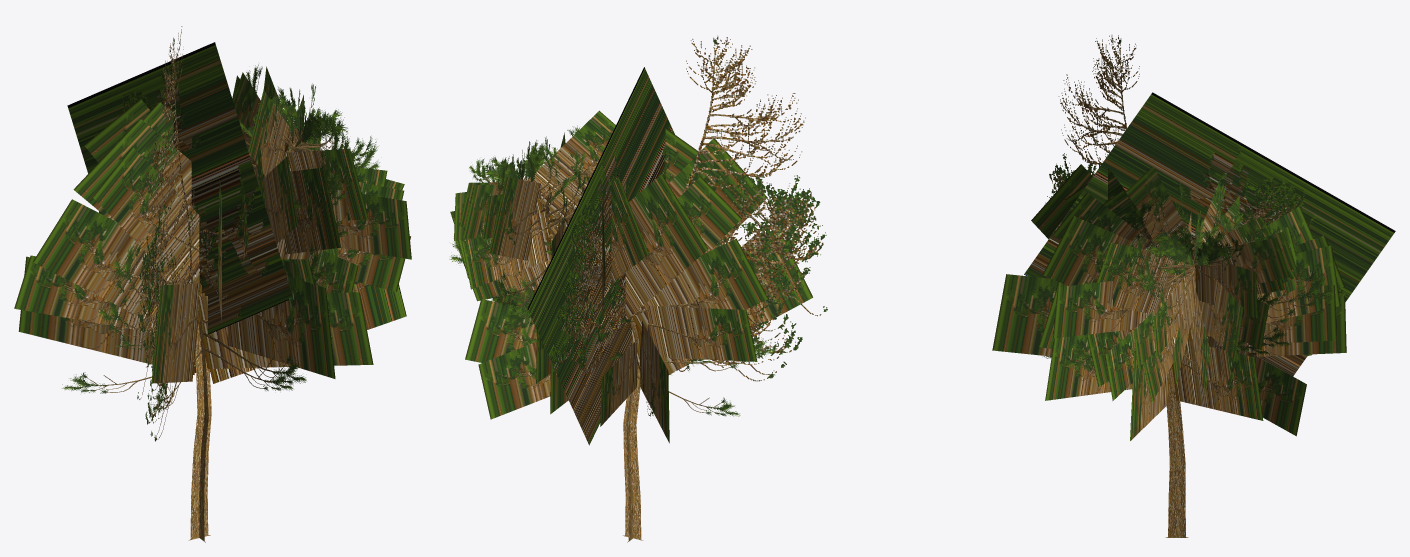
File: Pine_aleppo_79_1_45.obj
The picture shows the model from 3 angles, left to right: view 1: azimuth 30°, elevation 25°; view 2: azimuth 150°, elevation 25°; view 3: azimuth 270°, elevation 25°; orthographic projection. The views are drawn at different scales.
Parts seen in each view (by area): view 1: Pine_aleppo_79_1_45_5, Pine_aleppo_79_1_45_60, Pine_aleppo_79_1_45_53, Pine_aleppo_79_1_45_51, Pine_aleppo_79_1_45_3, Pine_aleppo_79_1_45_47, Pine_aleppo_79_1_45_15, Pine_aleppo_79_1_45_24, Pine_aleppo_79_1_45_55, Pine_aleppo_79_1_45_67, Pine_aleppo_79_1_45_57, Pine_aleppo_79_1_45_49 (+11 smaller); view 2: Pine_aleppo_79_1_45_5, Pine_aleppo_79_1_45_3, Pine_aleppo_79_1_45_49, Pine_aleppo_79_1_45_67, Pine_aleppo_79_1_45_53, Pine_aleppo_79_1_45_60, Pine_aleppo_79_1_45_24, Pine_aleppo_79_1_45_15, Pine_aleppo_79_1_45_64, Pine_aleppo_79_1_45_62, Pine_aleppo_79_1_45_45, Pine_aleppo_79_1_45_17 (+9 smaller); view 3: Pine_aleppo_79_1_45_5, Pine_aleppo_79_1_45_51, Pine_aleppo_79_1_45_15, Pine_aleppo_79_1_45_24, Pine_aleppo_79_1_45_62, Pine_aleppo_79_1_45_22, Pine_aleppo_79_1_45_47, Pine_aleppo_79_1_45_3, Pine_aleppo_79_1_45_64, Pine_aleppo_79_1_45_2, Pine_aleppo_79_1_45_69, Pine_aleppo_79_1_45_34 (+20 smaller).
Boxes of the visible parts, box(x1,y1,x2,y2) form: Pine_aleppo_79_1_45_5: box(67, 42, 292, 334); Pine_aleppo_79_1_45_60: box(84, 99, 200, 372); Pine_aleppo_79_1_45_53: box(33, 199, 199, 324); Pine_aleppo_79_1_45_51: box(198, 248, 406, 383); Pine_aleppo_79_1_45_3: box(137, 26, 200, 441); Pine_aleppo_79_1_45_47: box(227, 276, 335, 378); Pine_aleppo_79_1_45_15: box(248, 90, 341, 254); Pine_aleppo_79_1_45_24: box(232, 72, 411, 259); Pine_aleppo_79_1_45_55: box(151, 283, 200, 383); Pine_aleppo_79_1_45_67: box(14, 255, 201, 332); Pine_aleppo_79_1_45_57: box(18, 145, 265, 374); Pine_aleppo_79_1_45_49: box(73, 118, 191, 221); Pine_aleppo_79_1_45_5: box(527, 67, 674, 445); Pine_aleppo_79_1_45_3: box(567, 35, 827, 381); Pine_aleppo_79_1_45_49: box(625, 174, 708, 319); Pine_aleppo_79_1_45_67: box(636, 305, 757, 361); Pine_aleppo_79_1_45_53: box(632, 238, 768, 334); Pine_aleppo_79_1_45_60: box(550, 176, 741, 426); Pine_aleppo_79_1_45_24: box(455, 177, 559, 301); Pine_aleppo_79_1_45_15: box(527, 110, 615, 228); Pine_aleppo_79_1_45_64: box(478, 319, 639, 419); Pine_aleppo_79_1_45_62: box(465, 299, 536, 362); Pine_aleppo_79_1_45_45: box(668, 138, 767, 250); Pine_aleppo_79_1_45_17: box(450, 210, 551, 289); Pine_aleppo_79_1_45_5: box(1024, 92, 1395, 376); Pine_aleppo_79_1_45_51: box(1045, 235, 1344, 440); Pine_aleppo_79_1_45_15: box(1042, 166, 1195, 285); Pine_aleppo_79_1_45_24: box(1053, 217, 1295, 397); Pine_aleppo_79_1_45_62: box(1172, 341, 1263, 420); Pine_aleppo_79_1_45_22: box(1096, 243, 1185, 368); Pine_aleppo_79_1_45_47: box(992, 274, 1058, 356); Pine_aleppo_79_1_45_3: box(1045, 35, 1215, 243); Pine_aleppo_79_1_45_64: box(1038, 282, 1306, 436); Pine_aleppo_79_1_45_2: box(1189, 245, 1340, 340); Pine_aleppo_79_1_45_69: box(1165, 262, 1196, 537); Pine_aleppo_79_1_45_34: box(1095, 184, 1279, 352).
Bounding box in the file's own units: 9.85 × 12.63 × 9.84.
6 materials, 6 textured.
